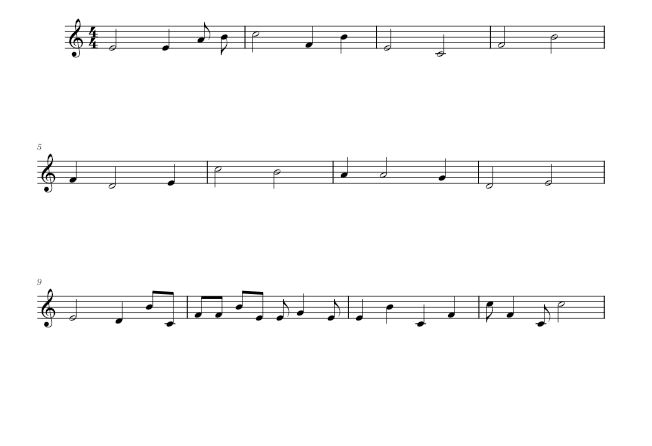Treble Clef: (65, 12, 86, 62), (37, 288, 59, 332), (37, 153, 59, 196)
